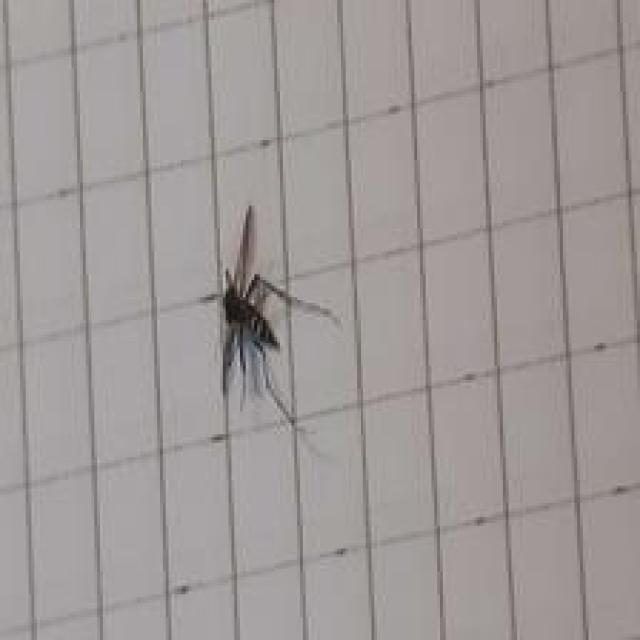Aedes albopictus: (200, 203, 343, 457)
